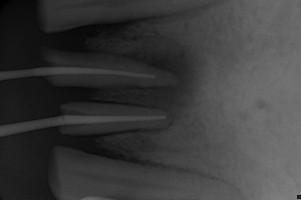Furcation Involvement: (120, 44, 200, 112)
